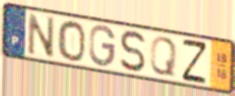G: (88, 24, 118, 68)
N: (27, 11, 56, 60)
O: (56, 19, 87, 63)
Q: (148, 36, 179, 78)
S: (119, 29, 147, 74)
Z: (182, 38, 208, 85)
